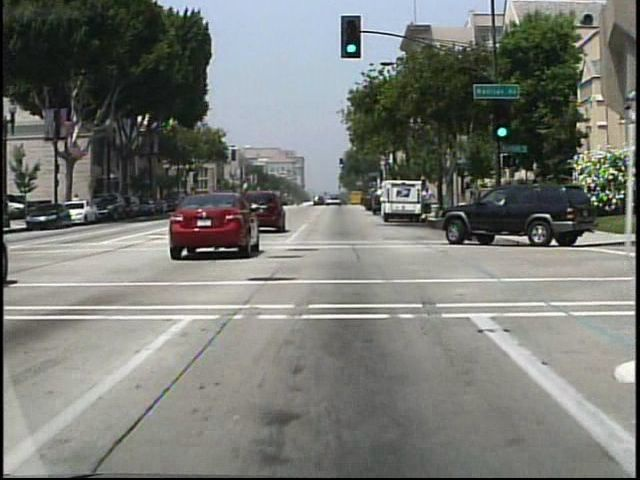person: (421, 187, 435, 218), (73, 192, 84, 216), (363, 192, 375, 214)
